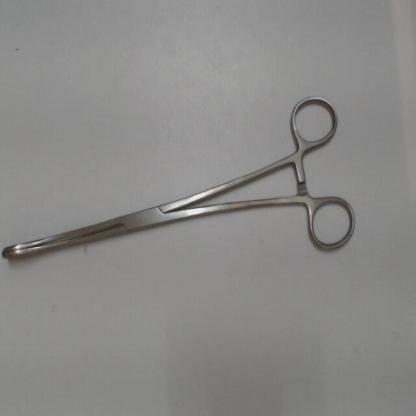Sponge Forceps: (0, 88, 363, 270)
